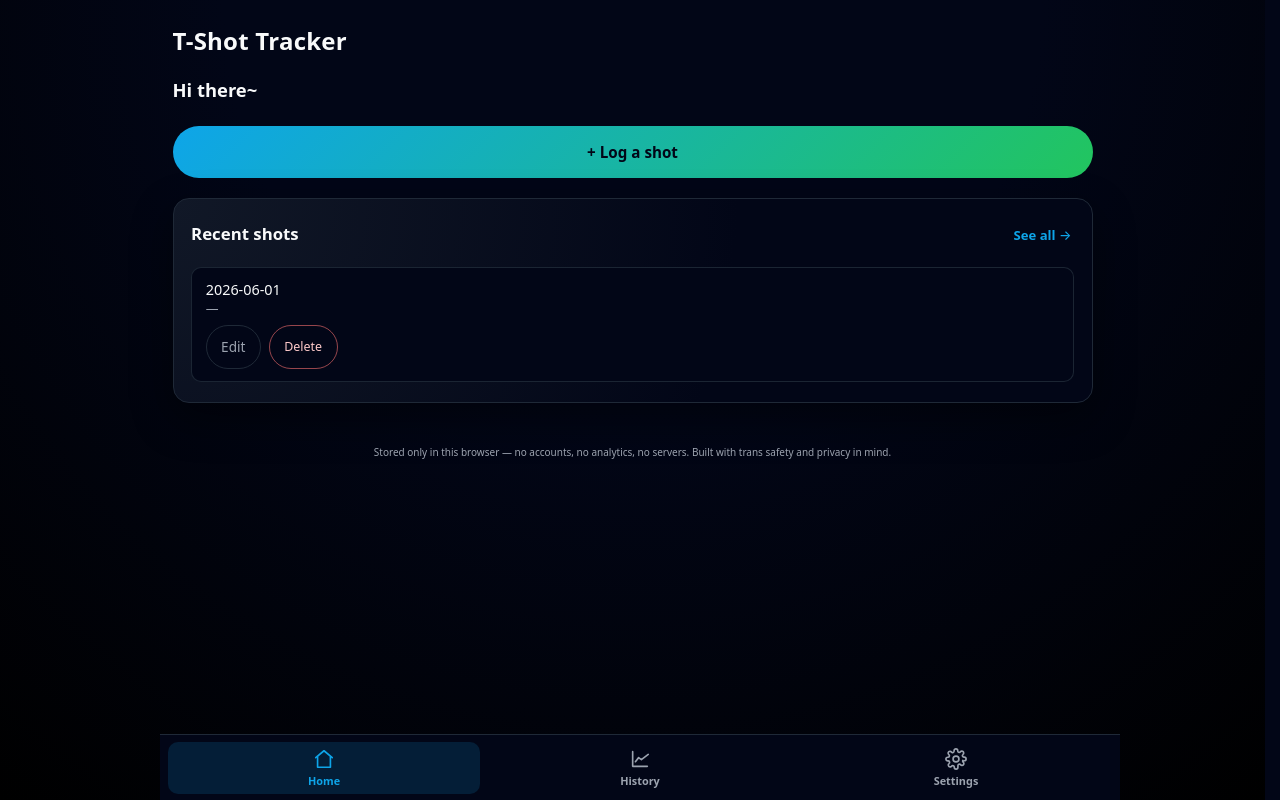
App — navigation › 'See all' on the Home teaser opens History
The image size is (1280, 800).
Click the button "See all →": {"x": 1043, "y": 235} [1011, 217, 1074, 253]
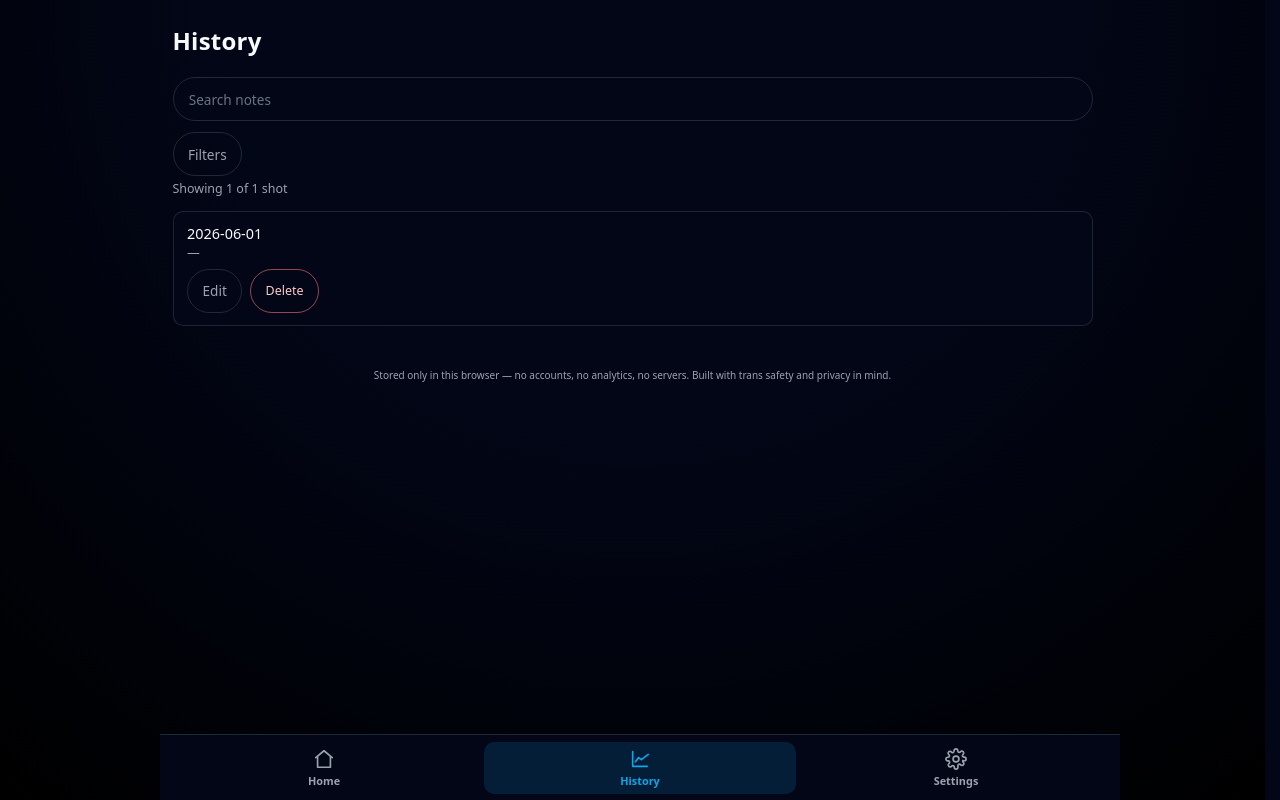
Check: the search field with placeholder "Search notes" is shown, box [172, 77, 1092, 121]
